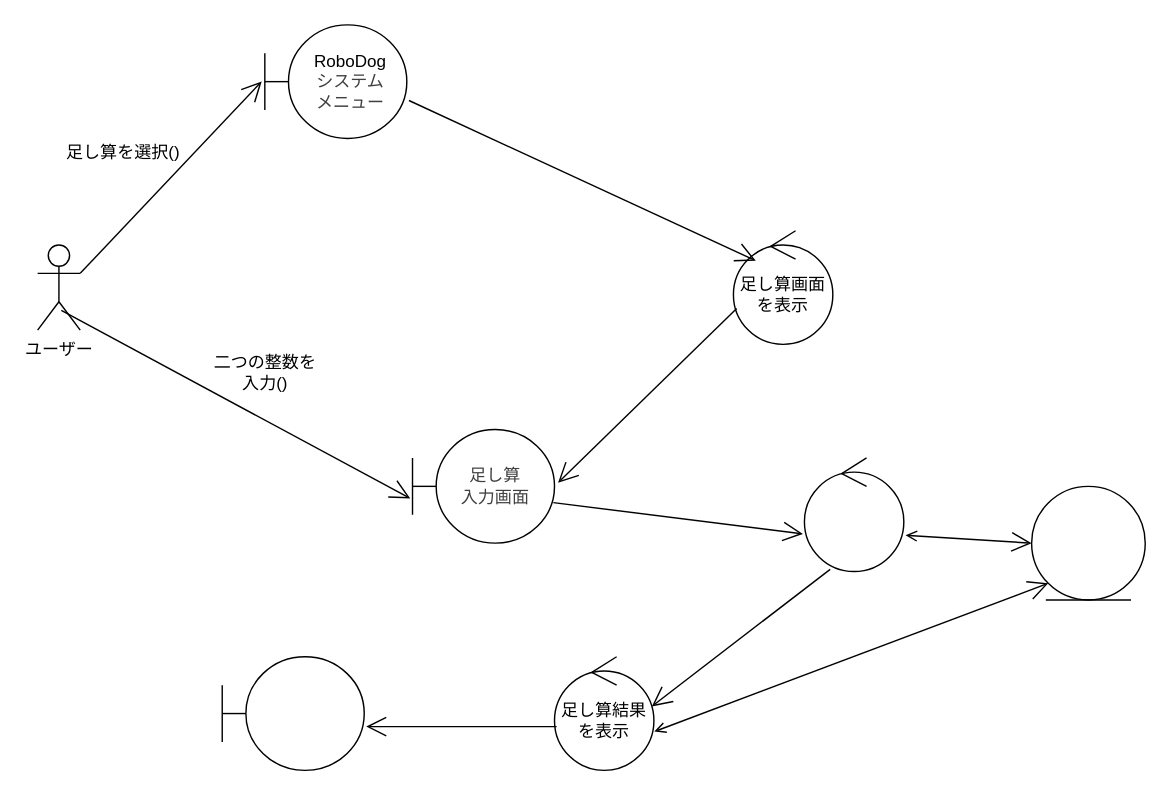
This 1170x795 diagram has some shape labels left out. The shapes that lost their labels are listed below. From the top down, each one's centre as x and y in pixels, then its label:
[853,514]: 二つの整数 を登録
[1087,542]: RoboDog
[292,712]: 足し算結果 表示画面
